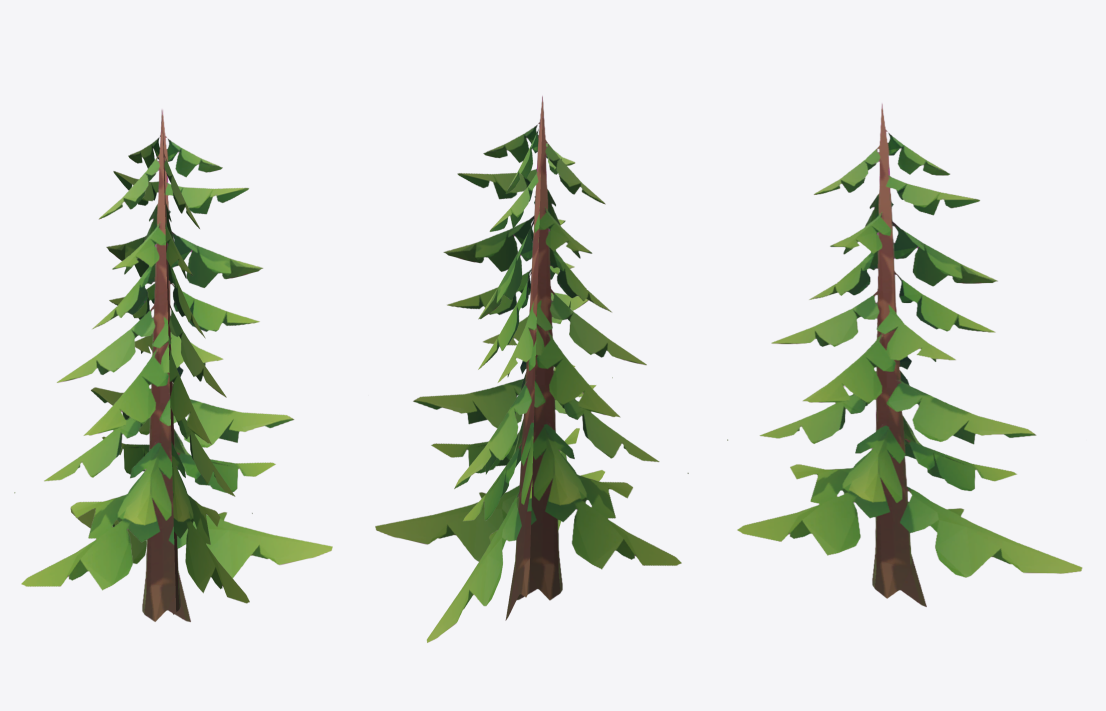
3 views of the same model, side by side, from view 1: azimuth 30°, elevation 25°; view 2: azimuth 150°, elevation 25°; view 3: azimuth 270°, elevation 25° (orthographic). The views are drawn at different scales.
Parts seen in each view (by area): view 1: Conifer_Proxy; view 2: Conifer_Proxy; view 3: Conifer_Proxy.
Part boxes in pixels (x1,y1,x2,y2): Conifer_Proxy: (14,109,332,621); Conifer_Proxy: (375,96,688,642); Conifer_Proxy: (727,103,1082,606).
Size of the model in its own units: 307 by 500 by 319.
1 material, 1 textured.
